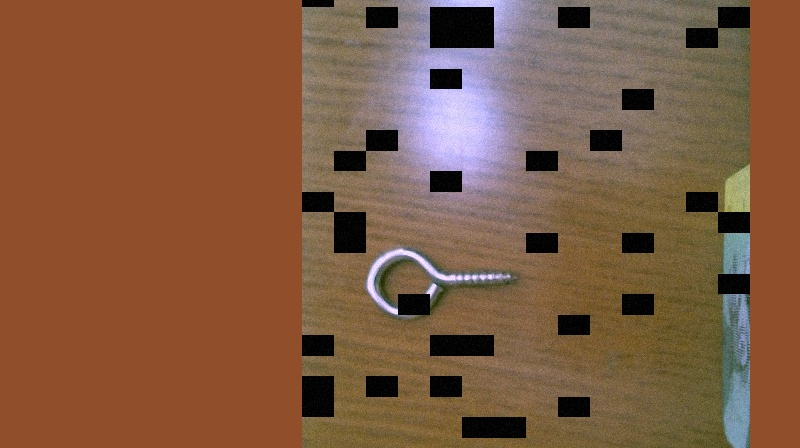O001: (358, 240, 520, 326)
